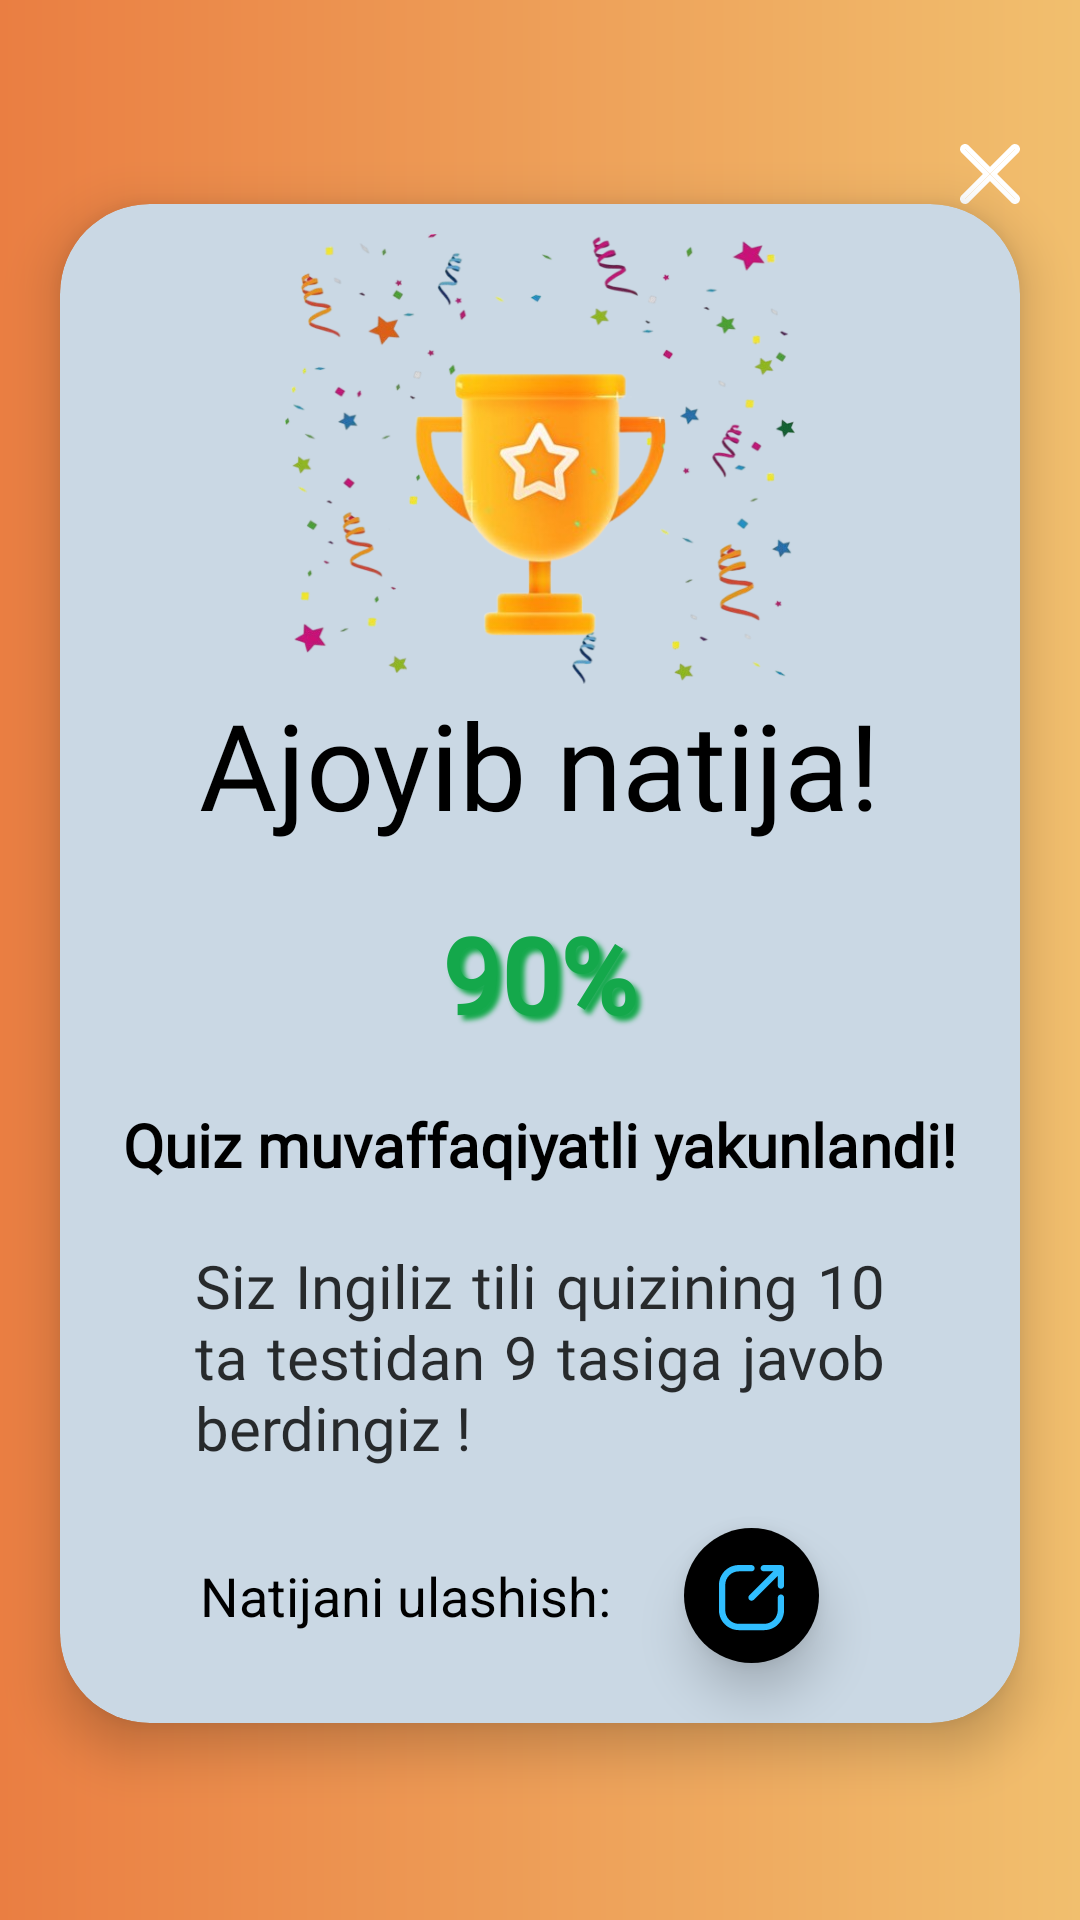

Screen size 1080 x 1920. Icon name, then its center in pixels as [x,y]:
cancel: [990,174]
share: [751,1595]
